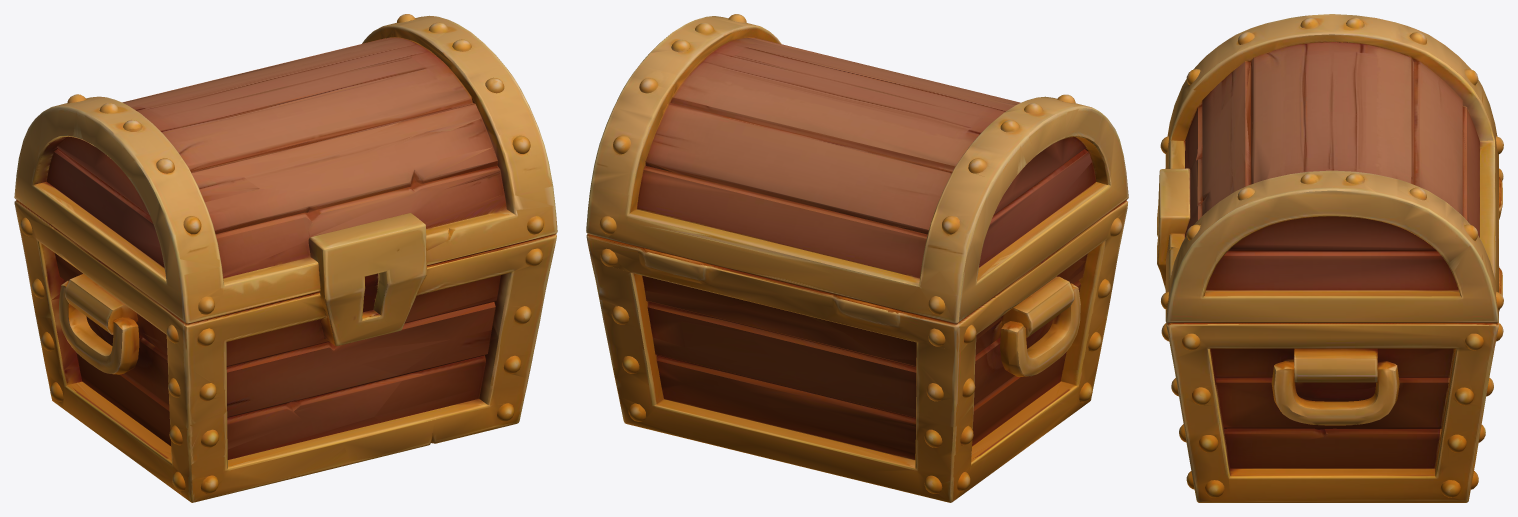
The model's file is coffre_tresor_anim.glb.
3 views of the same model, side by side, from view 1: azimuth 30°, elevation 25°; view 2: azimuth 150°, elevation 25°; view 3: azimuth 270°, elevation 25° (orthographic). The views are drawn at different scales.
Visible parts, largest first — view 1: Couvercle, Corps; view 2: Couvercle, Corps; view 3: Couvercle, Corps.
Part boxes in pixels (left/top/right/bottom): Couvercle: left=14, top=14, right=557, bottom=346; Corps: left=14, top=200, right=556, bottom=502; Couvercle: left=586, top=14, right=1128, bottom=324; Corps: left=586, top=200, right=1127, bottom=502; Couvercle: left=1157, top=14, right=1503, bottom=323; Corps: left=1157, top=168, right=1503, bottom=502.
Bounding box in the file's own units: 2.83 × 2.32 × 2.22.
Materials: 1 (1 with a texture image).
